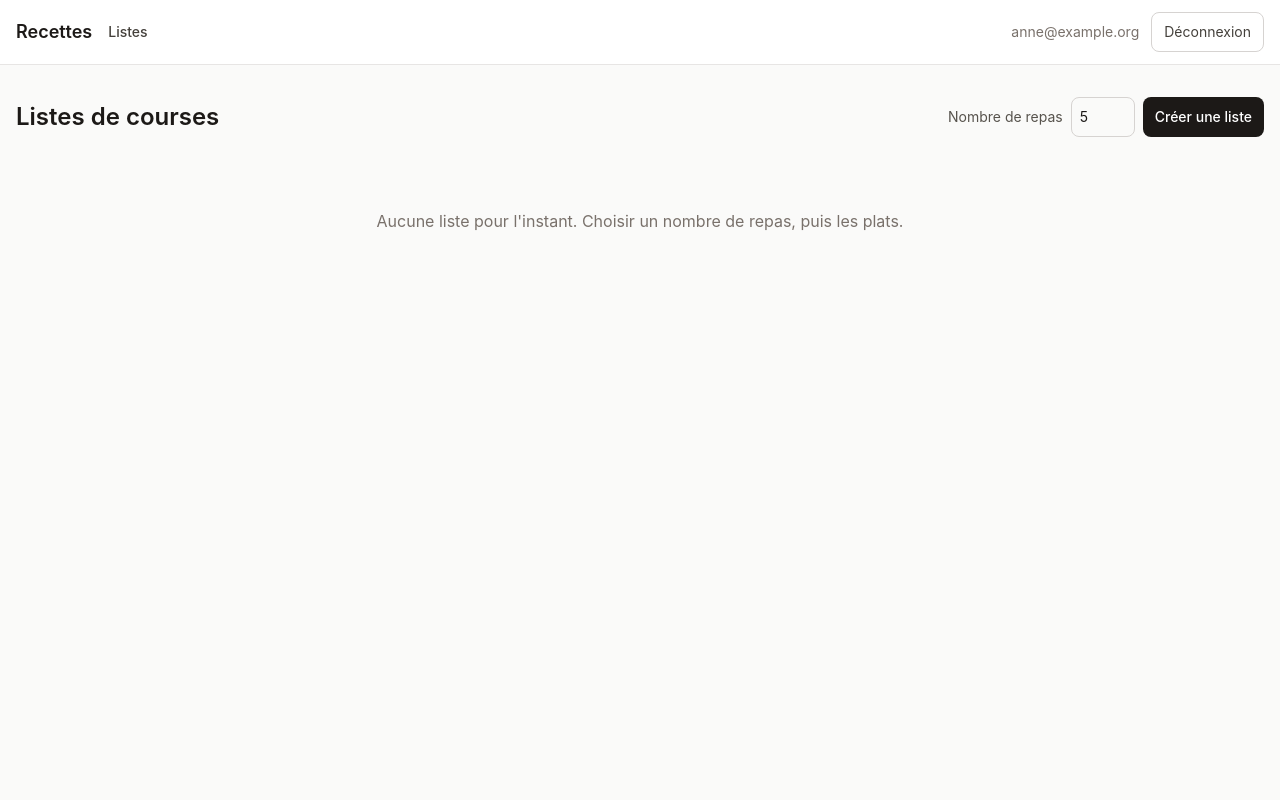
listes de courses › créer tire 5 repas par défaut et ouvre la préparation
Expected: the text "Aucune liste" is shown, [376,211,903,231]
Expected: the number field labelled "Nombre de repas" holds "5", [1071,97,1135,137]
Step 1. Click the button "Créer une liste" → [1203, 117], box [1143,97,1264,137]
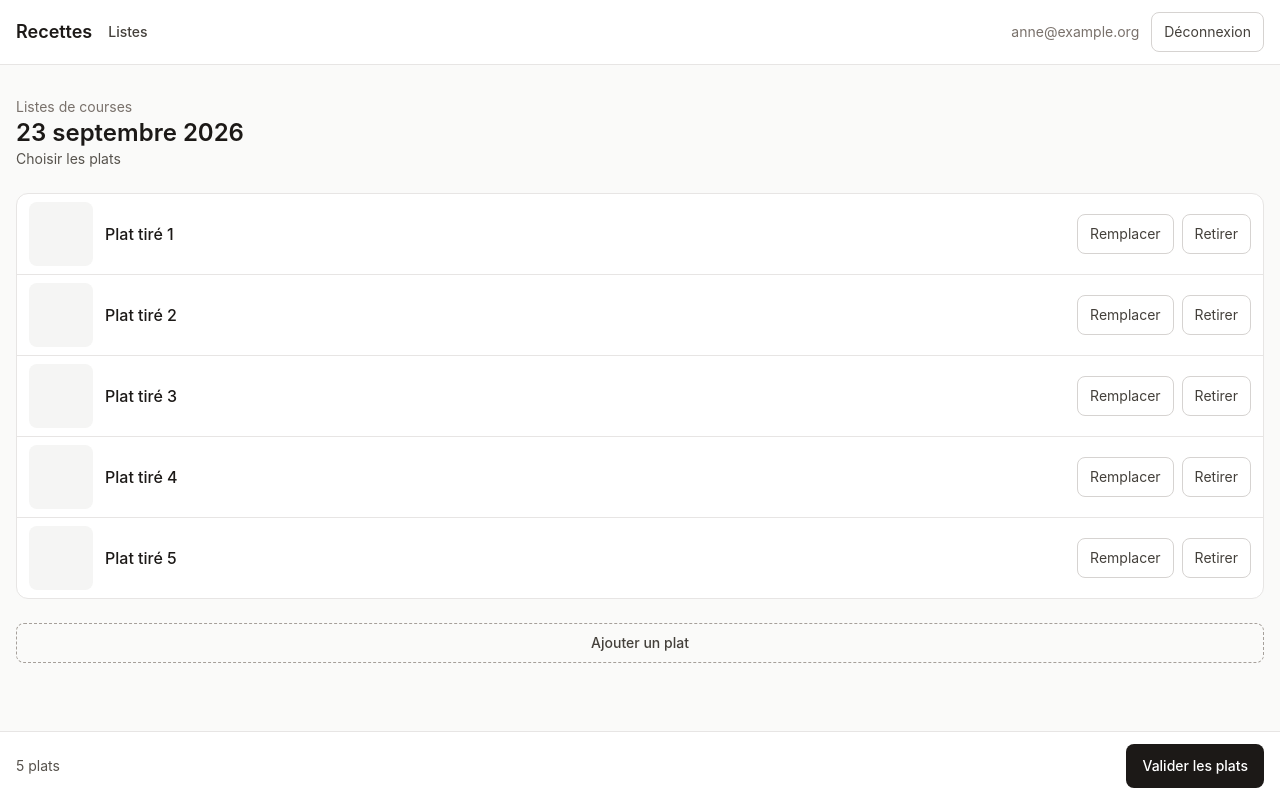
Result: the text "Plat tiré 5" is shown at [105,546,177,570]
